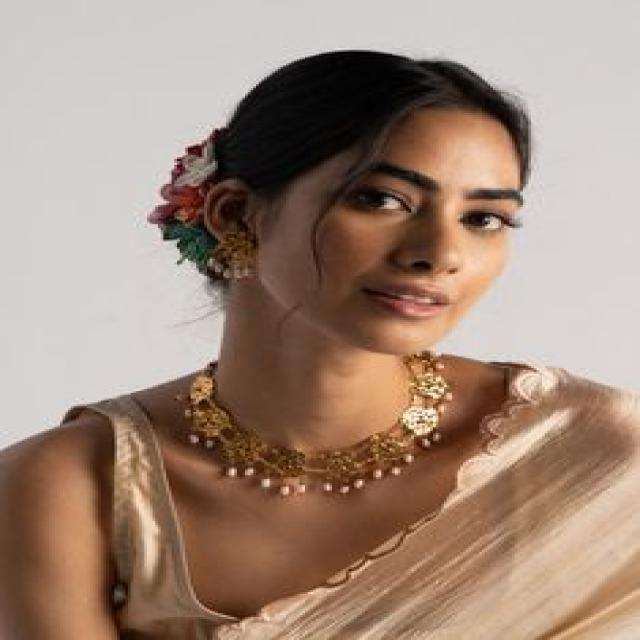Earring: (208, 220, 264, 284)
